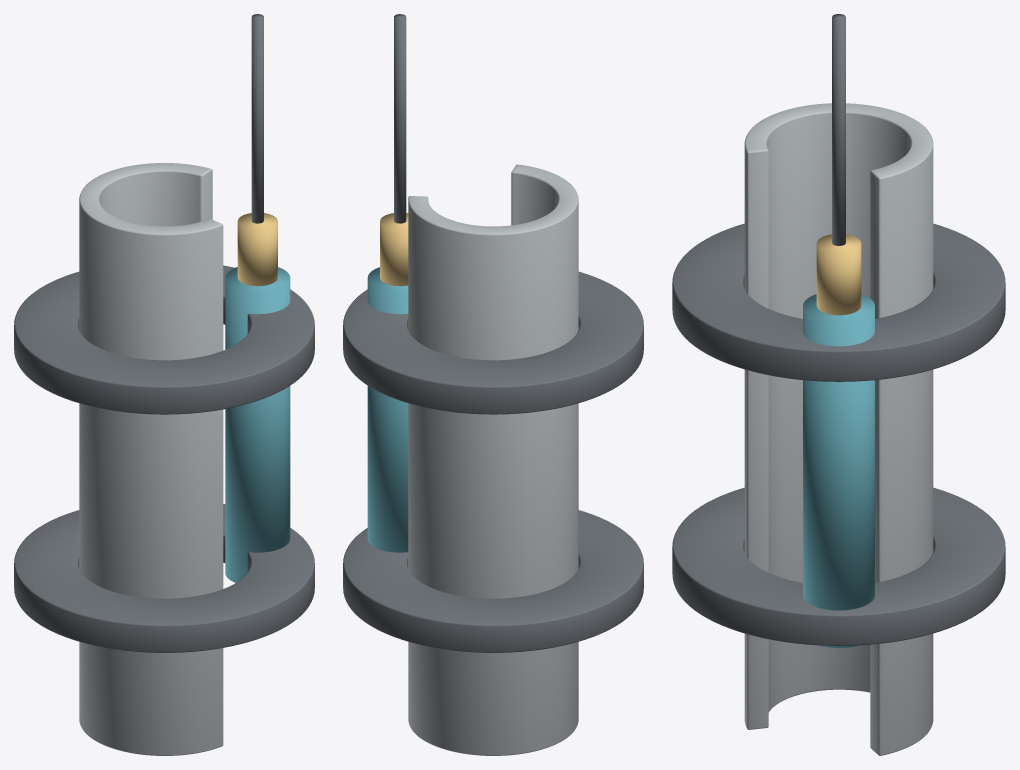
Rendered from gauge.glb.
3 views of the same model, side by side, from view 1: azimuth 30°, elevation 25°; view 2: azimuth 150°, elevation 25°; view 3: azimuth 270°, elevation 25° (orthographic). The views are drawn at different scales.
Visible parts, largest first — view 1: Carrier, Clamp 0, Clamp 1, Gauge housing, Sensor nose, Cable; view 2: Carrier, Clamp 1, Clamp 0, Gauge housing, Cable, Sensor nose; view 3: Carrier, Clamp 0, Clamp 1, Gauge housing, Sensor nose, Cable.
Part boxes in pixels (x1,y1,x2,y2): Carrier: (79, 163, 223, 755); Clamp 0: (14, 265, 314, 414); Clamp 1: (14, 504, 314, 652); Gauge housing: (225, 267, 290, 582); Sensor nose: (237, 213, 277, 286); Cable: (251, 14, 263, 223); Carrier: (408, 164, 578, 755); Clamp 1: (343, 510, 643, 652); Clamp 0: (343, 271, 643, 414); Gauge housing: (367, 267, 408, 552); Cable: (394, 14, 406, 223); Sensor nose: (380, 213, 408, 286); Carrier: (744, 103, 933, 755); Clamp 0: (672, 223, 1005, 381); Clamp 1: (672, 487, 1005, 645); Gauge housing: (803, 294, 874, 648); Sensor nose: (816, 234, 861, 315); Cable: (832, 14, 845, 245).
Bounding box in the file's own units: 2.4 × 6 × 2.4.
